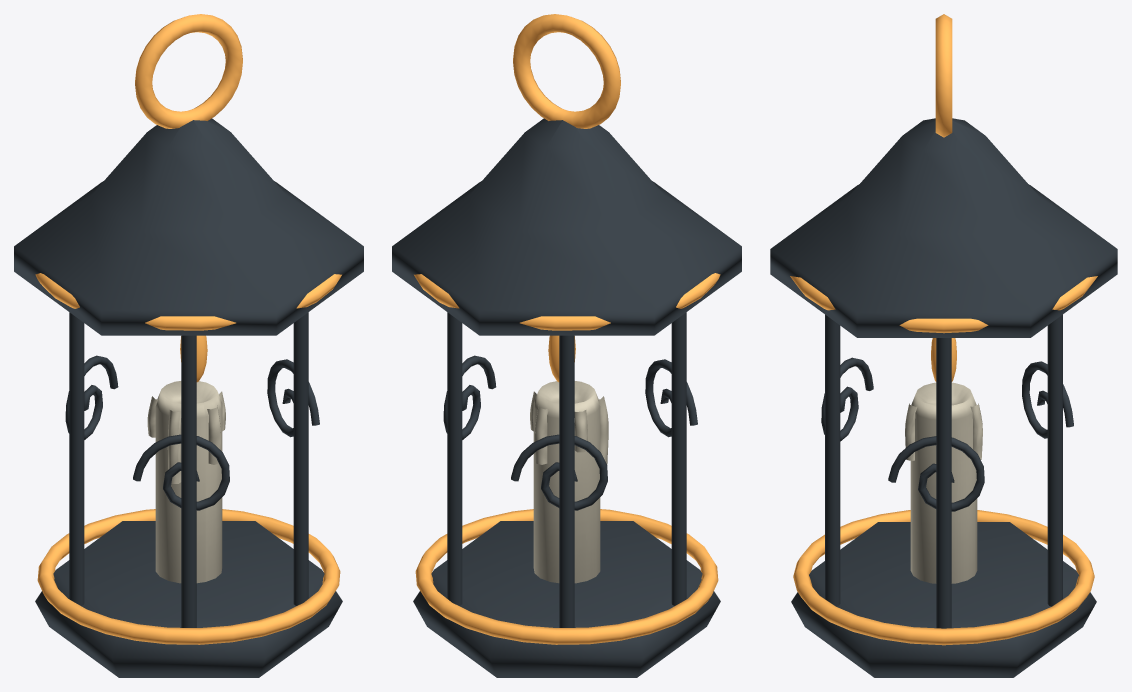
Rendered from hollowwick-halloween-hex-candle-lantern-216b6d00__21616.glb.
3 renders of one model, left to right at view 1: azimuth 30°, elevation 25°; view 2: azimuth 150°, elevation 25°; view 3: azimuth 270°, elevation 25°, orthographic.
Parts seen in each view (by area): view 1: hex-candle-lantern; view 2: hex-candle-lantern; view 3: hex-candle-lantern.
Boxes of the visible parts, x1,y1,x2,y2 form: hex-candle-lantern: (14, 14, 363, 677); hex-candle-lantern: (392, 14, 741, 677); hex-candle-lantern: (770, 14, 1117, 677).
Bounding box in the file's own units: 0.454 × 0.964 × 0.5.
3 materials, 1 textured.
